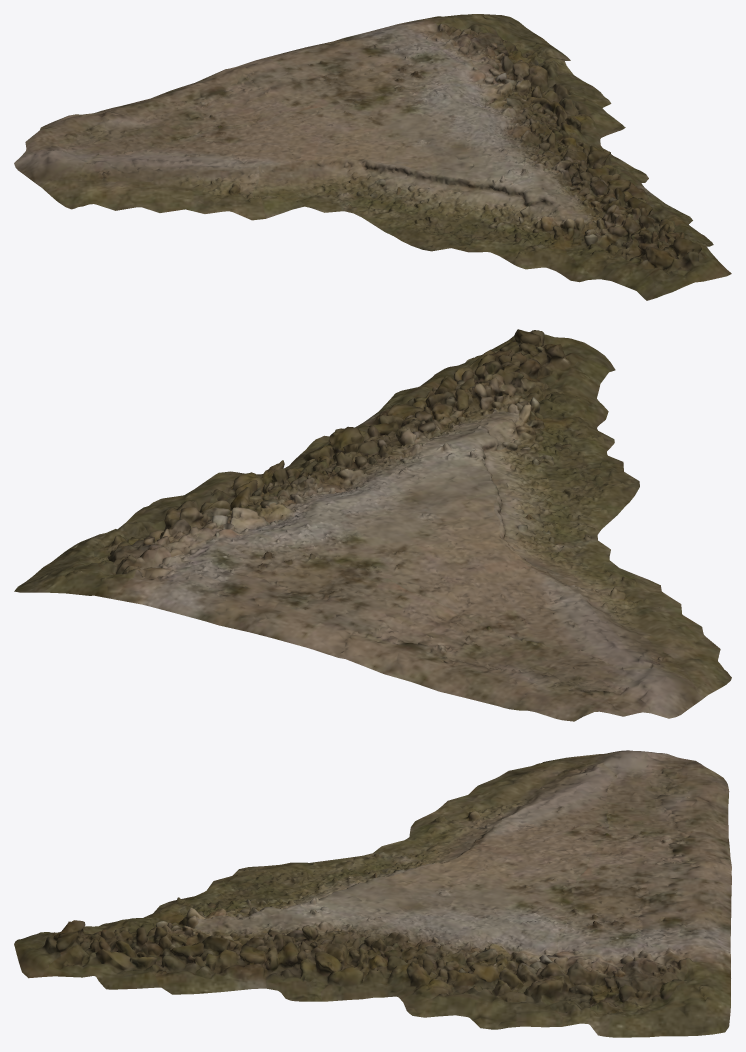
File: coast_rocks_02.gltf
3 views of the same model, one above another, from view 1: azimuth 30°, elevation 25°; view 2: azimuth 150°, elevation 25°; view 3: azimuth 270°, elevation 25° (orthographic). The views are drawn at different scales.
Visible parts, largest first — view 1: coast_rocks_02; view 2: coast_rocks_02; view 3: coast_rocks_02.
Boxes of the visible parts, x1=… form: coast_rocks_02: x1=14, y1=14, x2=731, y2=300; coast_rocks_02: x1=14, y1=329, x2=731, y2=721; coast_rocks_02: x1=14, y1=750, x2=731, y2=1037.
Bounding box in the file's own units: 45.97 × 3.16 × 49.46.
1 material, 1 textured.
